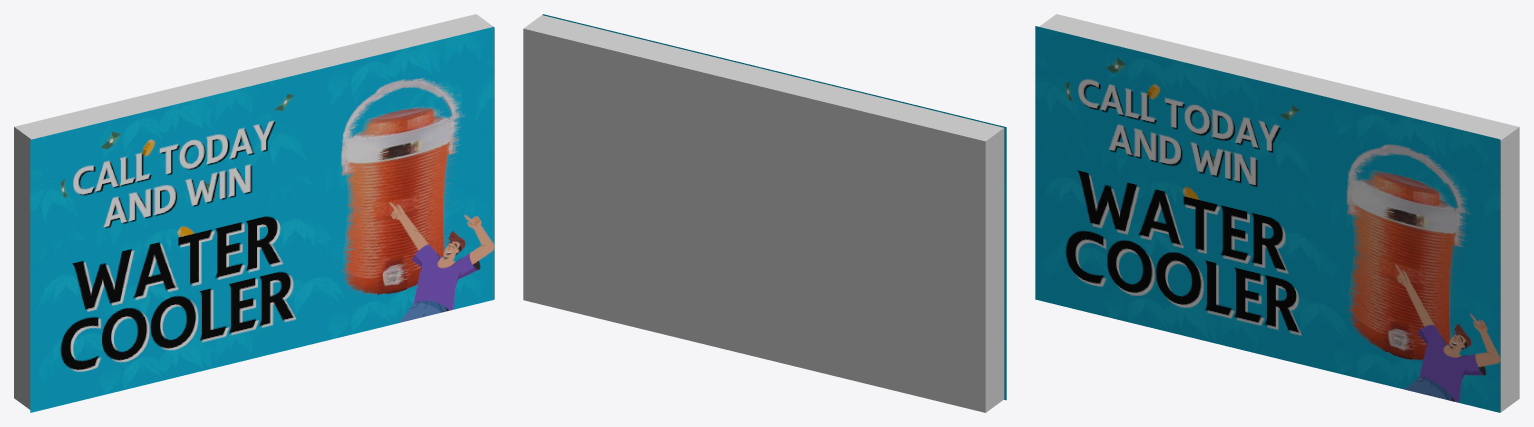
Rendered from water cooler.fbx.
The picture shows the model from 3 angles, left to right: view 1: azimuth 30°, elevation 25°; view 2: azimuth 150°, elevation 25°; view 3: azimuth 330°, elevation 25°; orthographic projection.
Visible parts, largest first — view 1: water cooler, cooler; view 2: cooler, water cooler; view 3: water cooler, cooler.
Part boxes in pixels (<box>): water cooler: <box>30,27,494,412</box>; cooler: <box>14,14,494,409</box>; cooler: <box>523,15,1004,412</box>; water cooler: <box>542,14,1006,400</box>; water cooler: <box>1035,26,1500,412</box>; cooler: <box>1039,14,1519,412</box>.
Size of the model in its own units: 178 by 100 by 12.37.
Materials: 1 (1 with a texture image).
